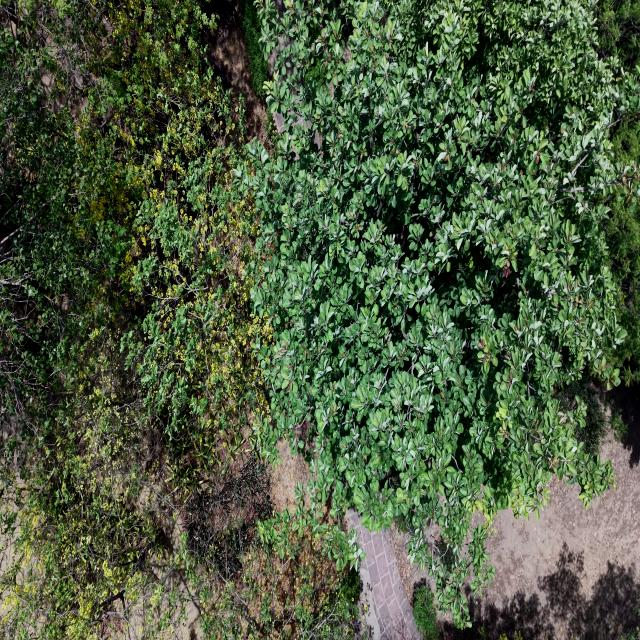DRY_AREA: (438, 384, 639, 639), (440, 384, 639, 639), (469, 383, 639, 639), (469, 384, 639, 639), (442, 442, 639, 639), (469, 441, 639, 639), (474, 440, 639, 639), (469, 546, 639, 639), (202, 0, 285, 146), (203, 0, 283, 145), (345, 509, 422, 639), (345, 508, 421, 639), (346, 509, 422, 639), (345, 509, 421, 639), (203, 0, 269, 143), (267, 438, 309, 510), (610, 381, 639, 466), (267, 35, 292, 73)
PATHWAYS: (346, 509, 421, 639)
VEGETATION_TREE: (0, 0, 639, 639), (252, 1, 637, 625), (0, 1, 354, 637), (0, 1, 267, 637), (0, 2, 158, 637), (111, 1, 265, 508), (186, 535, 360, 639), (601, 95, 639, 384), (602, 95, 639, 383), (561, 371, 626, 455), (560, 370, 609, 455), (240, 0, 268, 96), (412, 584, 437, 639), (619, 593, 639, 639), (341, 568, 361, 607), (621, 624, 639, 639)
